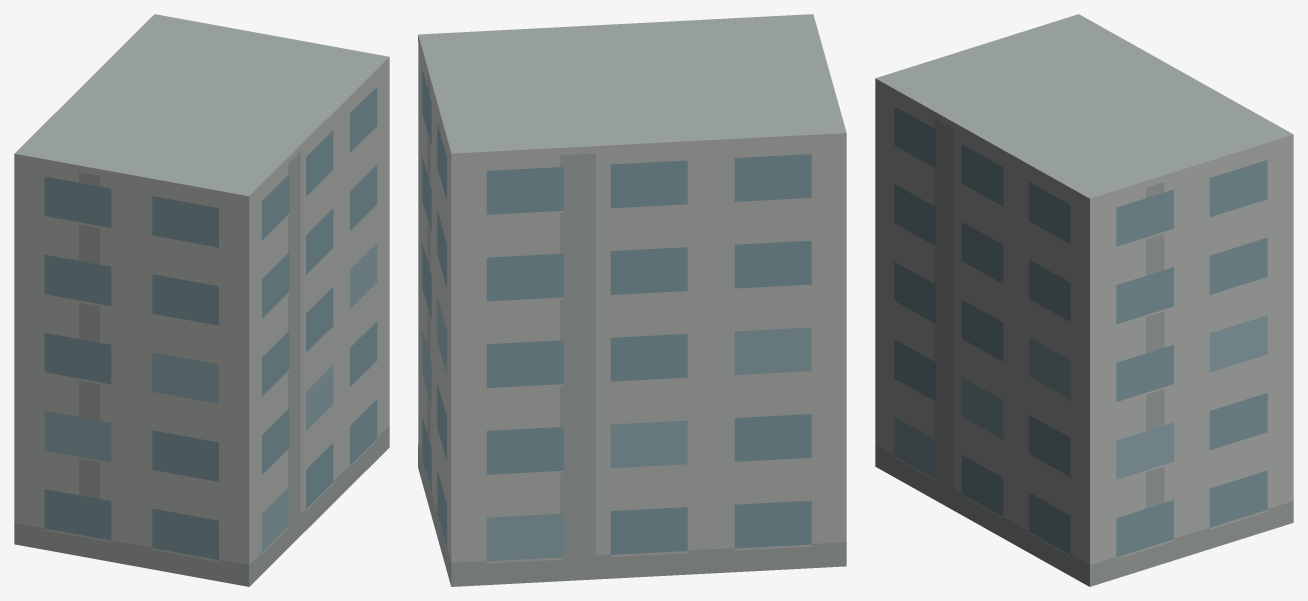
The model's file is residential-9c14e120-2783-427f-9175-be2f6d1e68a1.glb.
3 views of the same model, side by side, from view 1: azimuth 30°, elevation 25°; view 2: azimuth 150°, elevation 25°; view 3: azimuth 270°, elevation 25° (orthographic). The views are drawn at different scales.
Parts seen in each view (by area): view 1: residential-9c14e120-2783-427f-9175-be2f6d1e68a1.tmp; view 2: residential-9c14e120-2783-427f-9175-be2f6d1e68a1.tmp; view 3: residential-9c14e120-2783-427f-9175-be2f6d1e68a1.tmp.
Boxes of the visible parts, bbox=[...] form: residential-9c14e120-2783-427f-9175-be2f6d1e68a1.tmp: bbox=[14, 14, 389, 586]; residential-9c14e120-2783-427f-9175-be2f6d1e68a1.tmp: bbox=[418, 14, 846, 586]; residential-9c14e120-2783-427f-9175-be2f6d1e68a1.tmp: bbox=[875, 14, 1293, 586].
Bounding box in the file's own units: 14.54 × 14.25 × 13.92.
